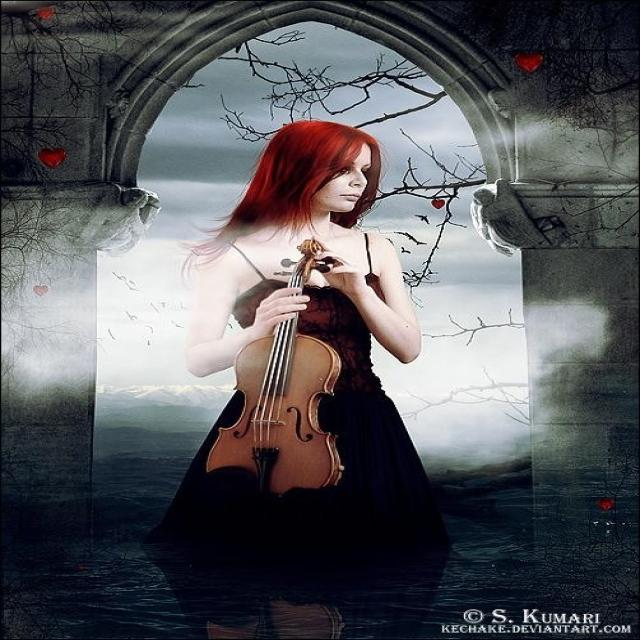violin: (202, 237, 343, 505)
